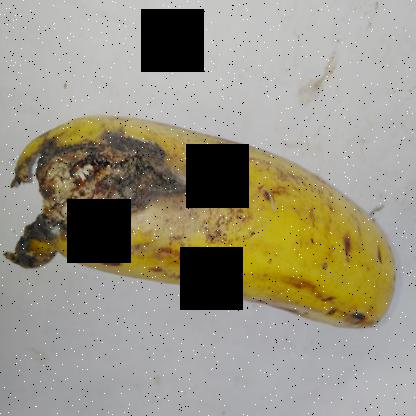rotten: (0, 98, 200, 301)
